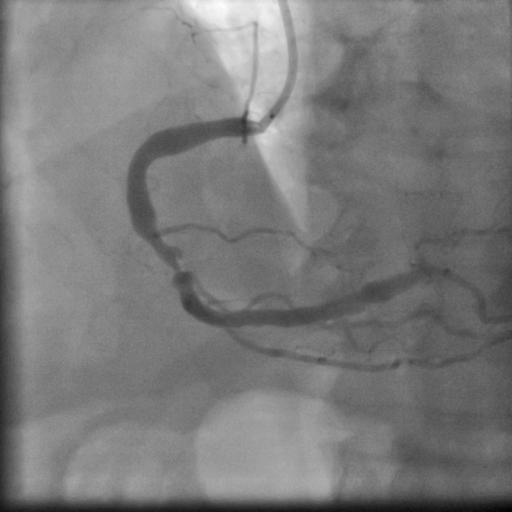Stenosis: (146, 242, 193, 283)
